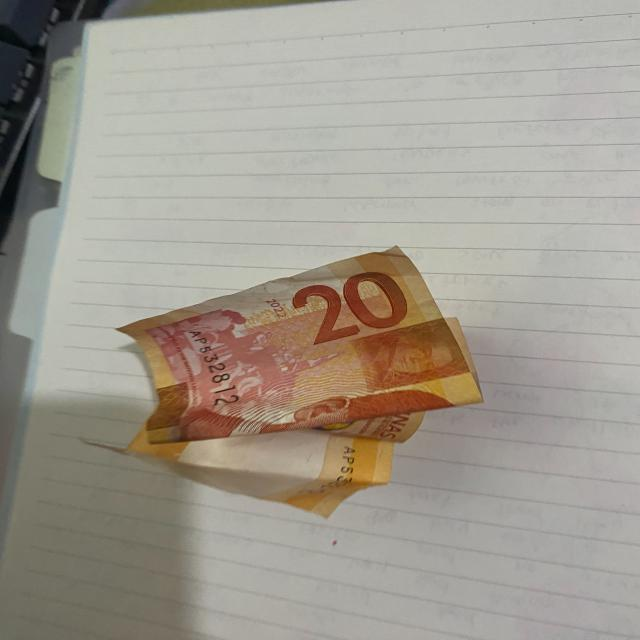concealed_value: (348, 316, 477, 390)
serial_number: (168, 316, 251, 412)
value: (277, 251, 428, 354)
